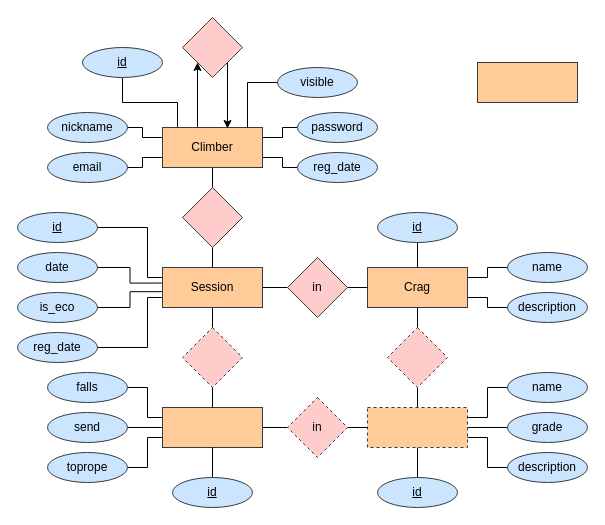
Some shapes in this 605 by 525 pixel diagram are drawn without their labels. The centre of each missing label's shape, as x and y in pixels:
contains: point (417, 357)
during: point (212, 357)
follows: point (212, 47)
Go: point (212, 427)
has: point (212, 217)
Route: point (417, 427)
TickerMessage: point (527, 82)
